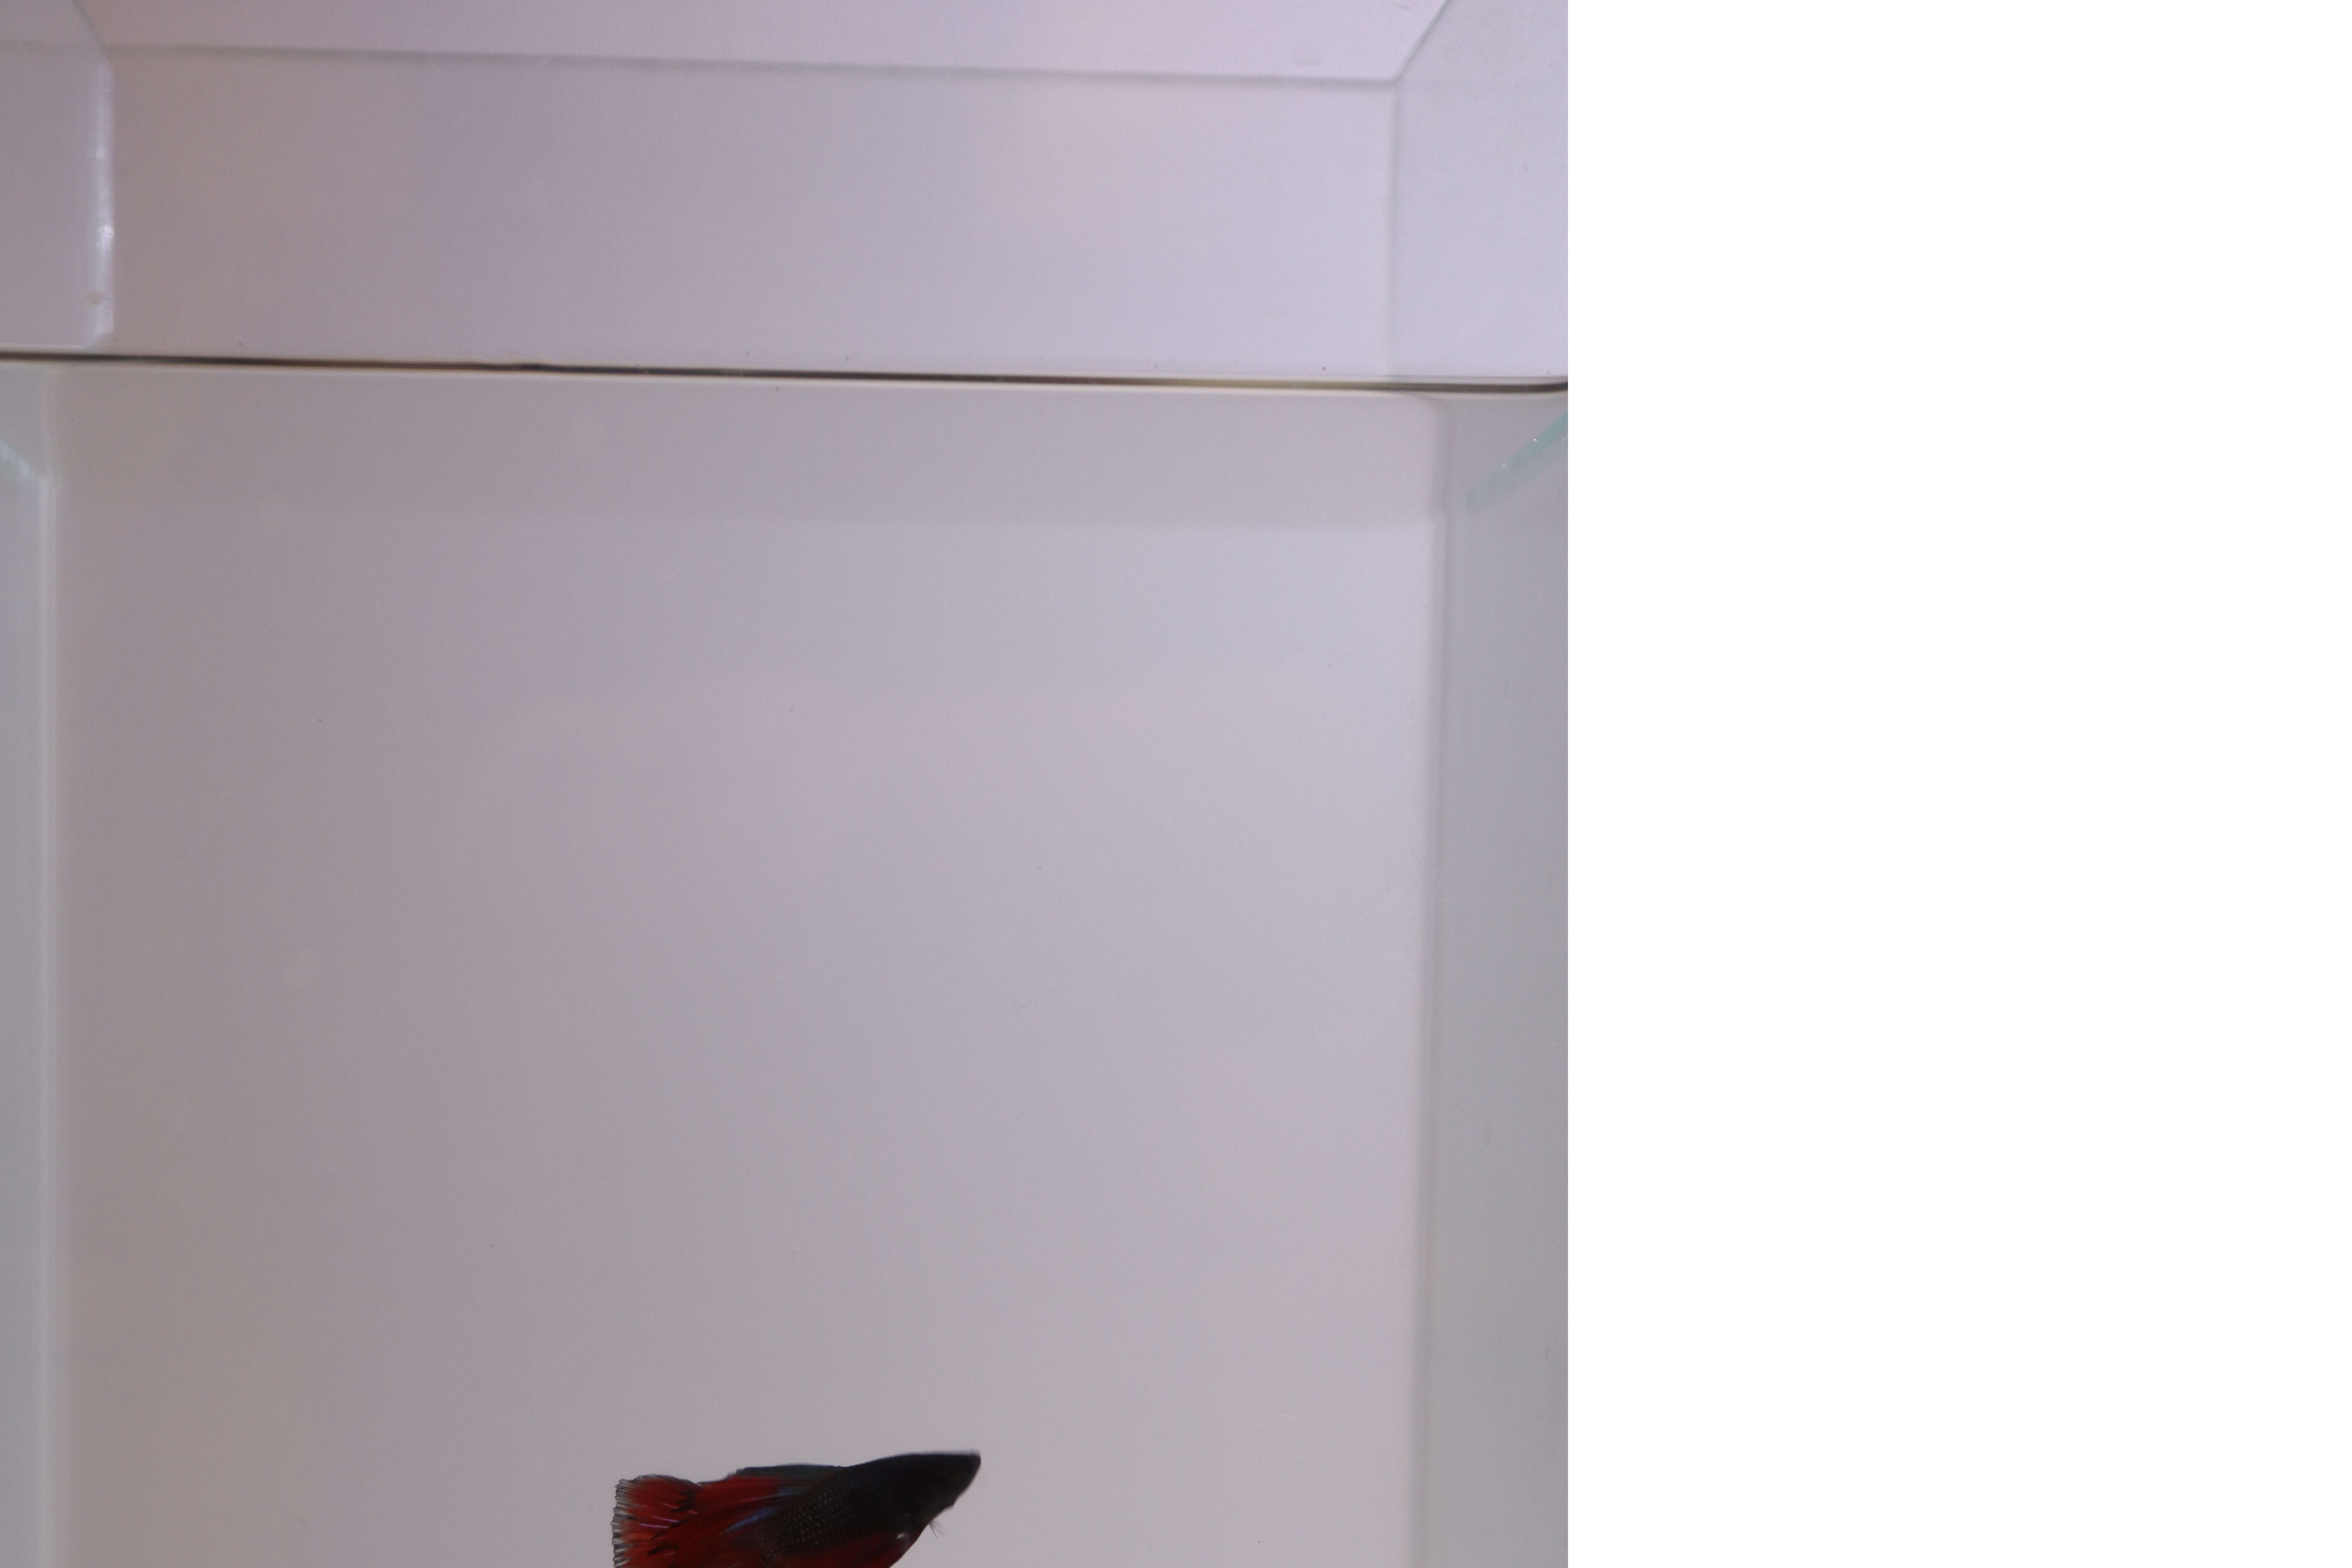fish: (581, 1421, 996, 1568)
